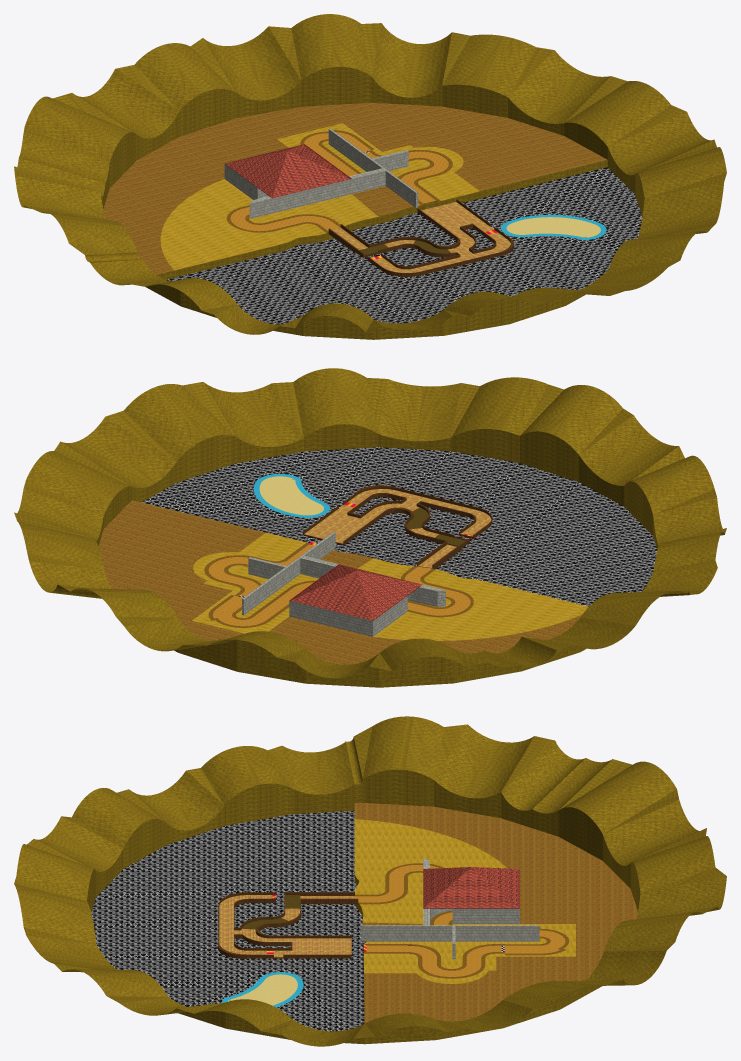
The picture shows the model from 3 angles, top to bottom: view 1: azimuth 30°, elevation 25°; view 2: azimuth 150°, elevation 25°; view 3: azimuth 270°, elevation 25°; orthographic projection. The views are drawn at different scales.
Visible parts, largest first — view 1: Dry_Coast_Rework-SKP--Wall, Dry_Coast_Rework-SKP--ef_wave1P_Mip, Dry_Coast_Rework-SKP--Out_Of_Bounds, Dry_Coast_Rework-SKP--Off_Road_2, Dry_Coast_Rework-SKP--Wall_3, Dry_Coast_Rework-SKP--Wall_5, Dry_Coast_Rework-SKP--Wood_Wall, Dry_Coast_Rework-SKP--Wood_Road_2, Dry_Coast_Rework-SKP--Road_2, Dry_Coast_Rework-SKP--Off_road, Dry_Coast_Rework-SKP--Road_3, Dry_Coast_Rework-SKP--Road_Water; view 2: Dry_Coast_Rework-SKP--Wall, Dry_Coast_Rework-SKP--ef_wave1P_Mip, Dry_Coast_Rework-SKP--Out_Of_Bounds, Dry_Coast_Rework-SKP--Off_Road_2, Dry_Coast_Rework-SKP--Wall_3, Dry_Coast_Rework-SKP--Wall_5, Dry_Coast_Rework-SKP--Road_2, Dry_Coast_Rework-SKP--Wood_Road_2, Dry_Coast_Rework-SKP--Wood_Wall, Dry_Coast_Rework-SKP--Off_road, Dry_Coast_Rework-SKP--Road_3, Dry_Coast_Rework-SKP--Road_Water; view 3: Dry_Coast_Rework-SKP--Wall, Dry_Coast_Rework-SKP--ef_wave1P_Mip, Dry_Coast_Rework-SKP--Out_Of_Bounds, Dry_Coast_Rework-SKP--Off_Road_2, Dry_Coast_Rework-SKP--Wall_3, Dry_Coast_Rework-SKP--Wall_5, Dry_Coast_Rework-SKP--Road_2, Dry_Coast_Rework-SKP--Wood_Wall, Dry_Coast_Rework-SKP--Wood_Road_2, Dry_Coast_Rework-SKP--Off_road, Dry_Coast_Rework-SKP--Road_3, Dry_Coast_Rework-SKP--Road_Water.
Part boxes in pixels (box(x1,y1,x2,y2)): Dry_Coast_Rework-SKP--Wall: box(14, 14, 726, 339); Dry_Coast_Rework-SKP--ef_wave1P_Mip: box(166, 167, 642, 324); Dry_Coast_Rework-SKP--Out_Of_Bounds: box(103, 102, 607, 274); Dry_Coast_Rework-SKP--Off_Road_2: box(160, 123, 479, 270); Dry_Coast_Rework-SKP--Wall_3: box(224, 128, 418, 218); Dry_Coast_Rework-SKP--Wall_5: box(225, 144, 349, 197); Dry_Coast_Rework-SKP--Wood_Wall: box(328, 199, 513, 276); Dry_Coast_Rework-SKP--Wood_Road_2: box(333, 202, 510, 272); Dry_Coast_Rework-SKP--Road_2: box(230, 132, 448, 231); Dry_Coast_Rework-SKP--Off_road: box(226, 130, 452, 232); Dry_Coast_Rework-SKP--Road_3: box(506, 217, 600, 237); Dry_Coast_Rework-SKP--Road_Water: box(501, 214, 606, 240); Dry_Coast_Rework-SKP--Wall: box(14, 368, 726, 687); Dry_Coast_Rework-SKP--ef_wave1P_Mip: box(141, 447, 657, 606); Dry_Coast_Rework-SKP--Out_Of_Bounds: box(98, 500, 581, 664); Dry_Coast_Rework-SKP--Off_Road_2: box(192, 532, 588, 640); Dry_Coast_Rework-SKP--Wall_3: box(242, 532, 445, 636); Dry_Coast_Rework-SKP--Wall_5: box(291, 564, 421, 620); Dry_Coast_Rework-SKP--Road_2: box(208, 544, 470, 626); Dry_Coast_Rework-SKP--Wood_Road_2: box(304, 489, 491, 567); Dry_Coast_Rework-SKP--Wood_Wall: box(303, 485, 492, 568); Dry_Coast_Rework-SKP--Off_road: box(204, 542, 473, 627); Dry_Coast_Rework-SKP--Road_3: box(259, 476, 323, 515); Dry_Coast_Rework-SKP--Road_Water: box(253, 474, 329, 517); Dry_Coast_Rework-SKP--Wall: box(14, 716, 726, 1046); Dry_Coast_Rework-SKP--ef_wave1P_Mip: box(91, 810, 365, 1031); Dry_Coast_Rework-SKP--Out_Of_Bounds: box(354, 803, 637, 1023); Dry_Coast_Rework-SKP--Off_Road_2: box(354, 819, 575, 983); Dry_Coast_Rework-SKP--Wall_3: box(361, 858, 539, 959); Dry_Coast_Rework-SKP--Wall_5: box(423, 867, 519, 907); Dry_Coast_Rework-SKP--Road_2: box(355, 865, 565, 976); Dry_Coast_Rework-SKP--Wood_Wall: box(217, 892, 358, 958); Dry_Coast_Rework-SKP--Wood_Road_2: box(219, 895, 355, 957); Dry_Coast_Rework-SKP--Off_road: box(354, 863, 569, 978); Dry_Coast_Rework-SKP--Road_3: box(228, 974, 297, 1005); Dry_Coast_Rework-SKP--Road_Water: box(221, 972, 303, 1007).
Size of the model in its own units: 141140 by 14665 by 140635.
Materials: 18 (17 with a texture image).
